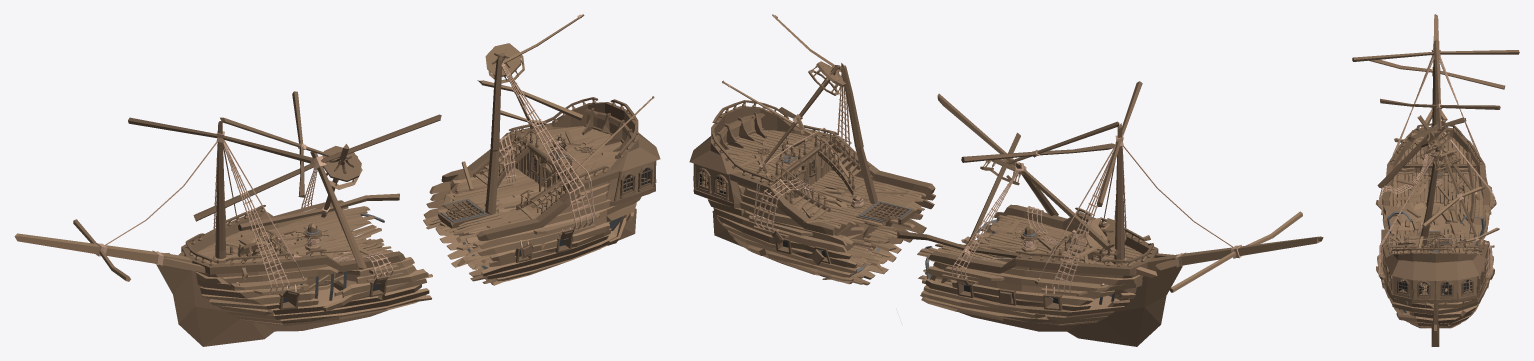
Rendered from PirateShipNoSails.fbx.
3 renders of one model, left to right at view 1: azimuth 30°, elevation 25°; view 2: azimuth 150°, elevation 25°; view 3: azimuth 270°, elevation 25°, orthographic. The views are drawn at different scales.
Visible parts, largest first — view 1: SunkenShipFront, SunkenShipBack; view 2: SunkenShipFront, SunkenShipBack; view 3: SunkenShipFront, SunkenShipBack.
Part boxes in pixels (x1=…): SunkenShipFront: x1=14, y1=91, x2=441, y2=346; SunkenShipBack: x1=423, y1=14, x2=660, y2=285; SunkenShipFront: x1=896, y1=81, x2=1323, y2=346; SunkenShipBack: x1=689, y1=14, x2=935, y2=285; SunkenShipFront: x1=1352, y1=14, x2=1519, y2=268; SunkenShipBack: x1=1376, y1=147, x2=1499, y2=346.
Size of the model in its own units: 10253 by 3940 by 3184.
